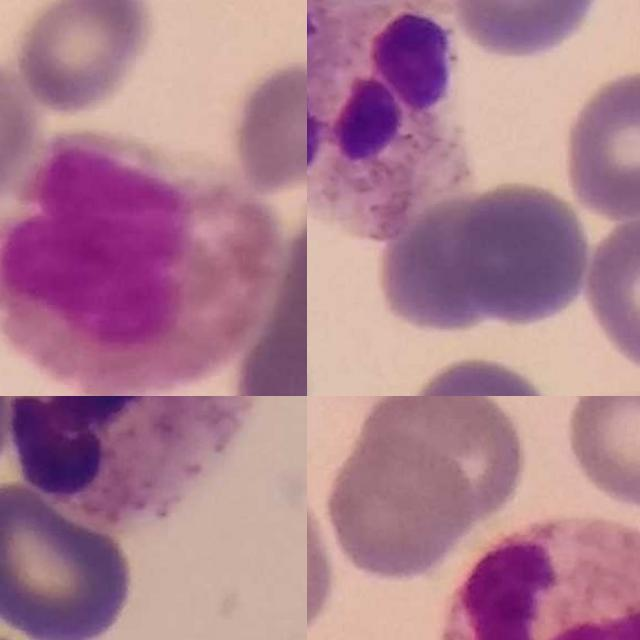Eosinophil: (0, 130, 278, 396)
Neutrophil: (307, 0, 475, 236), (11, 396, 271, 529), (444, 514, 640, 640)
